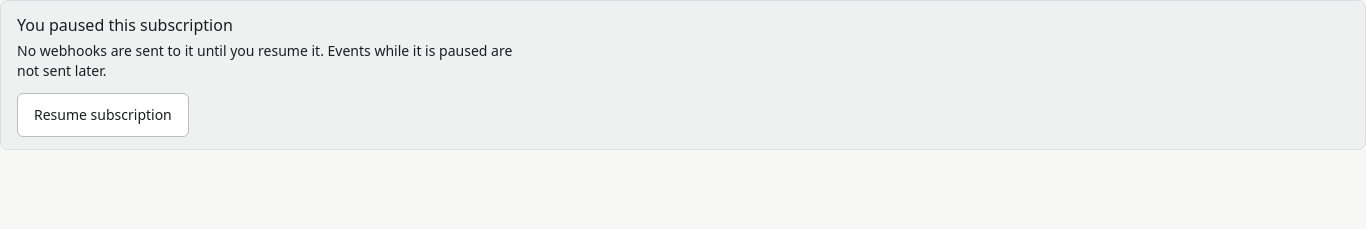
PausedNotice › explains a failed resume
The image size is (1366, 229).
Click the button with aria-label "Resume LA Metro".
click(103, 115)  # box [17,93,189,137]
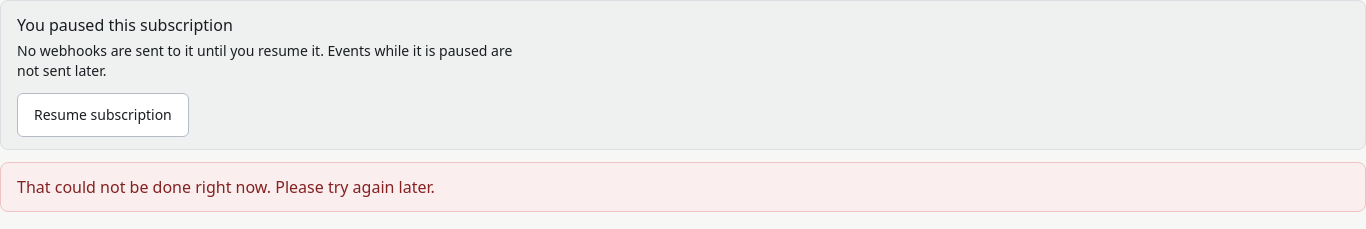
Check: the message shows "could not be done right now", box [17,176,435,198]
